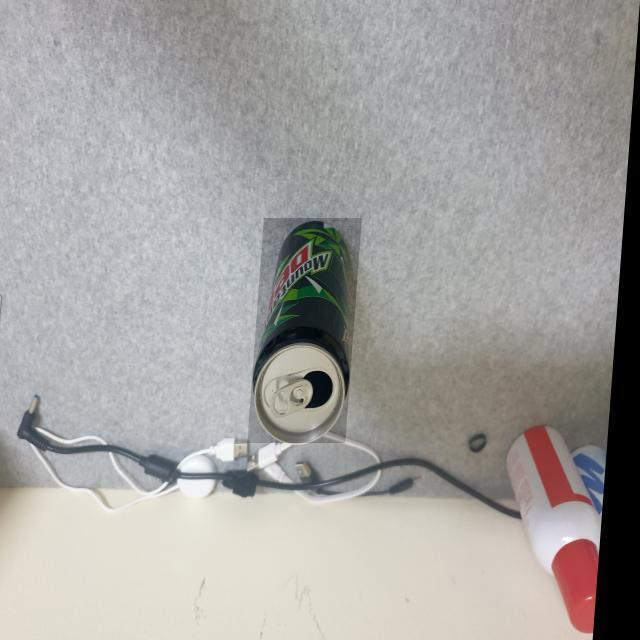trash: (252, 213, 361, 441)
